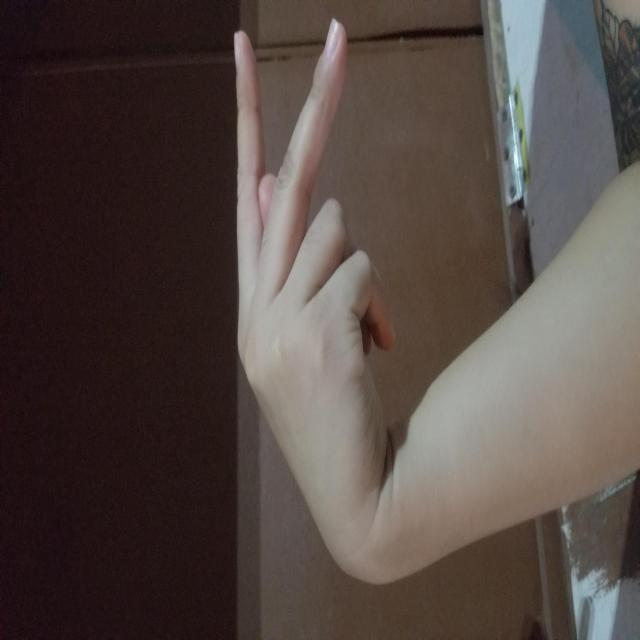K: (43, 231, 623, 398)
